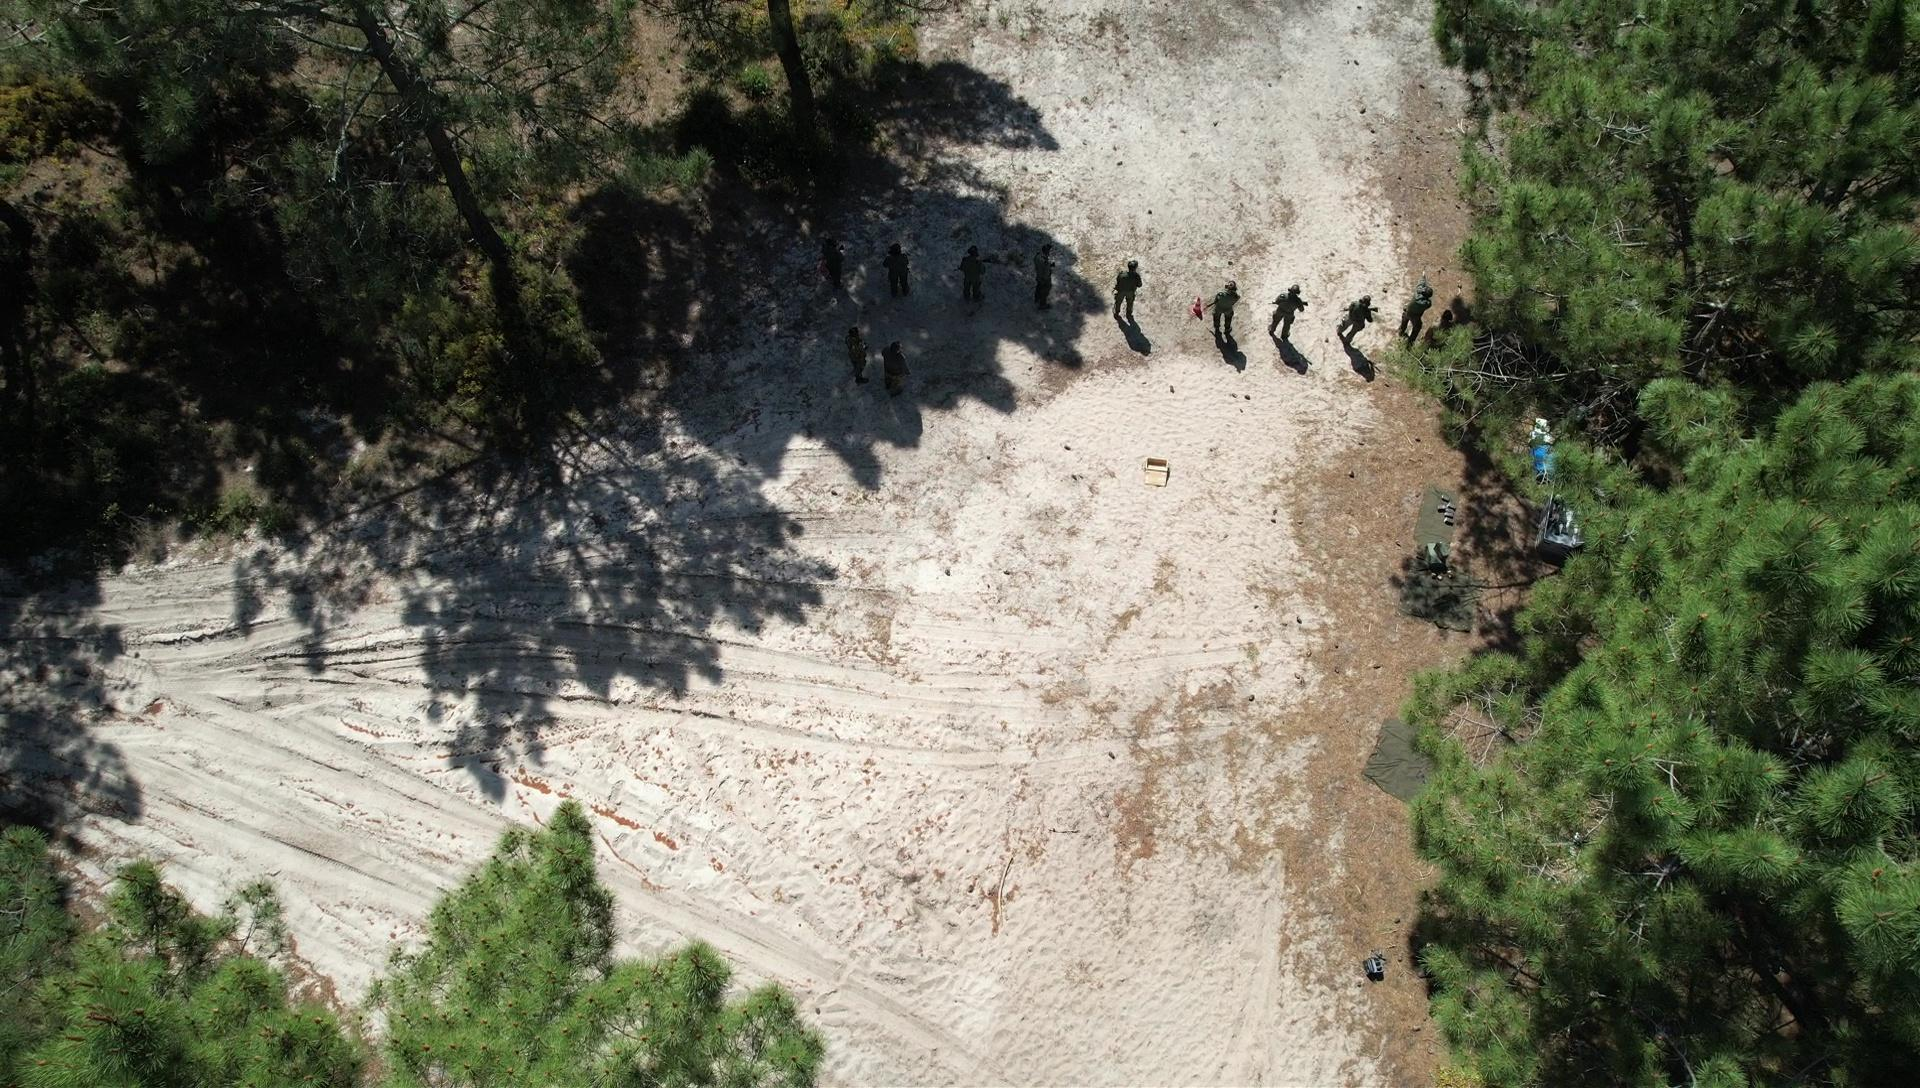Soldier: (866, 239, 924, 314), (868, 330, 919, 408), (1262, 280, 1312, 357), (953, 239, 994, 317), (1335, 284, 1377, 356), (1204, 280, 1245, 347), (1026, 233, 1062, 307), (1400, 270, 1437, 342), (833, 323, 876, 382), (1112, 255, 1145, 327), (814, 226, 847, 291)
